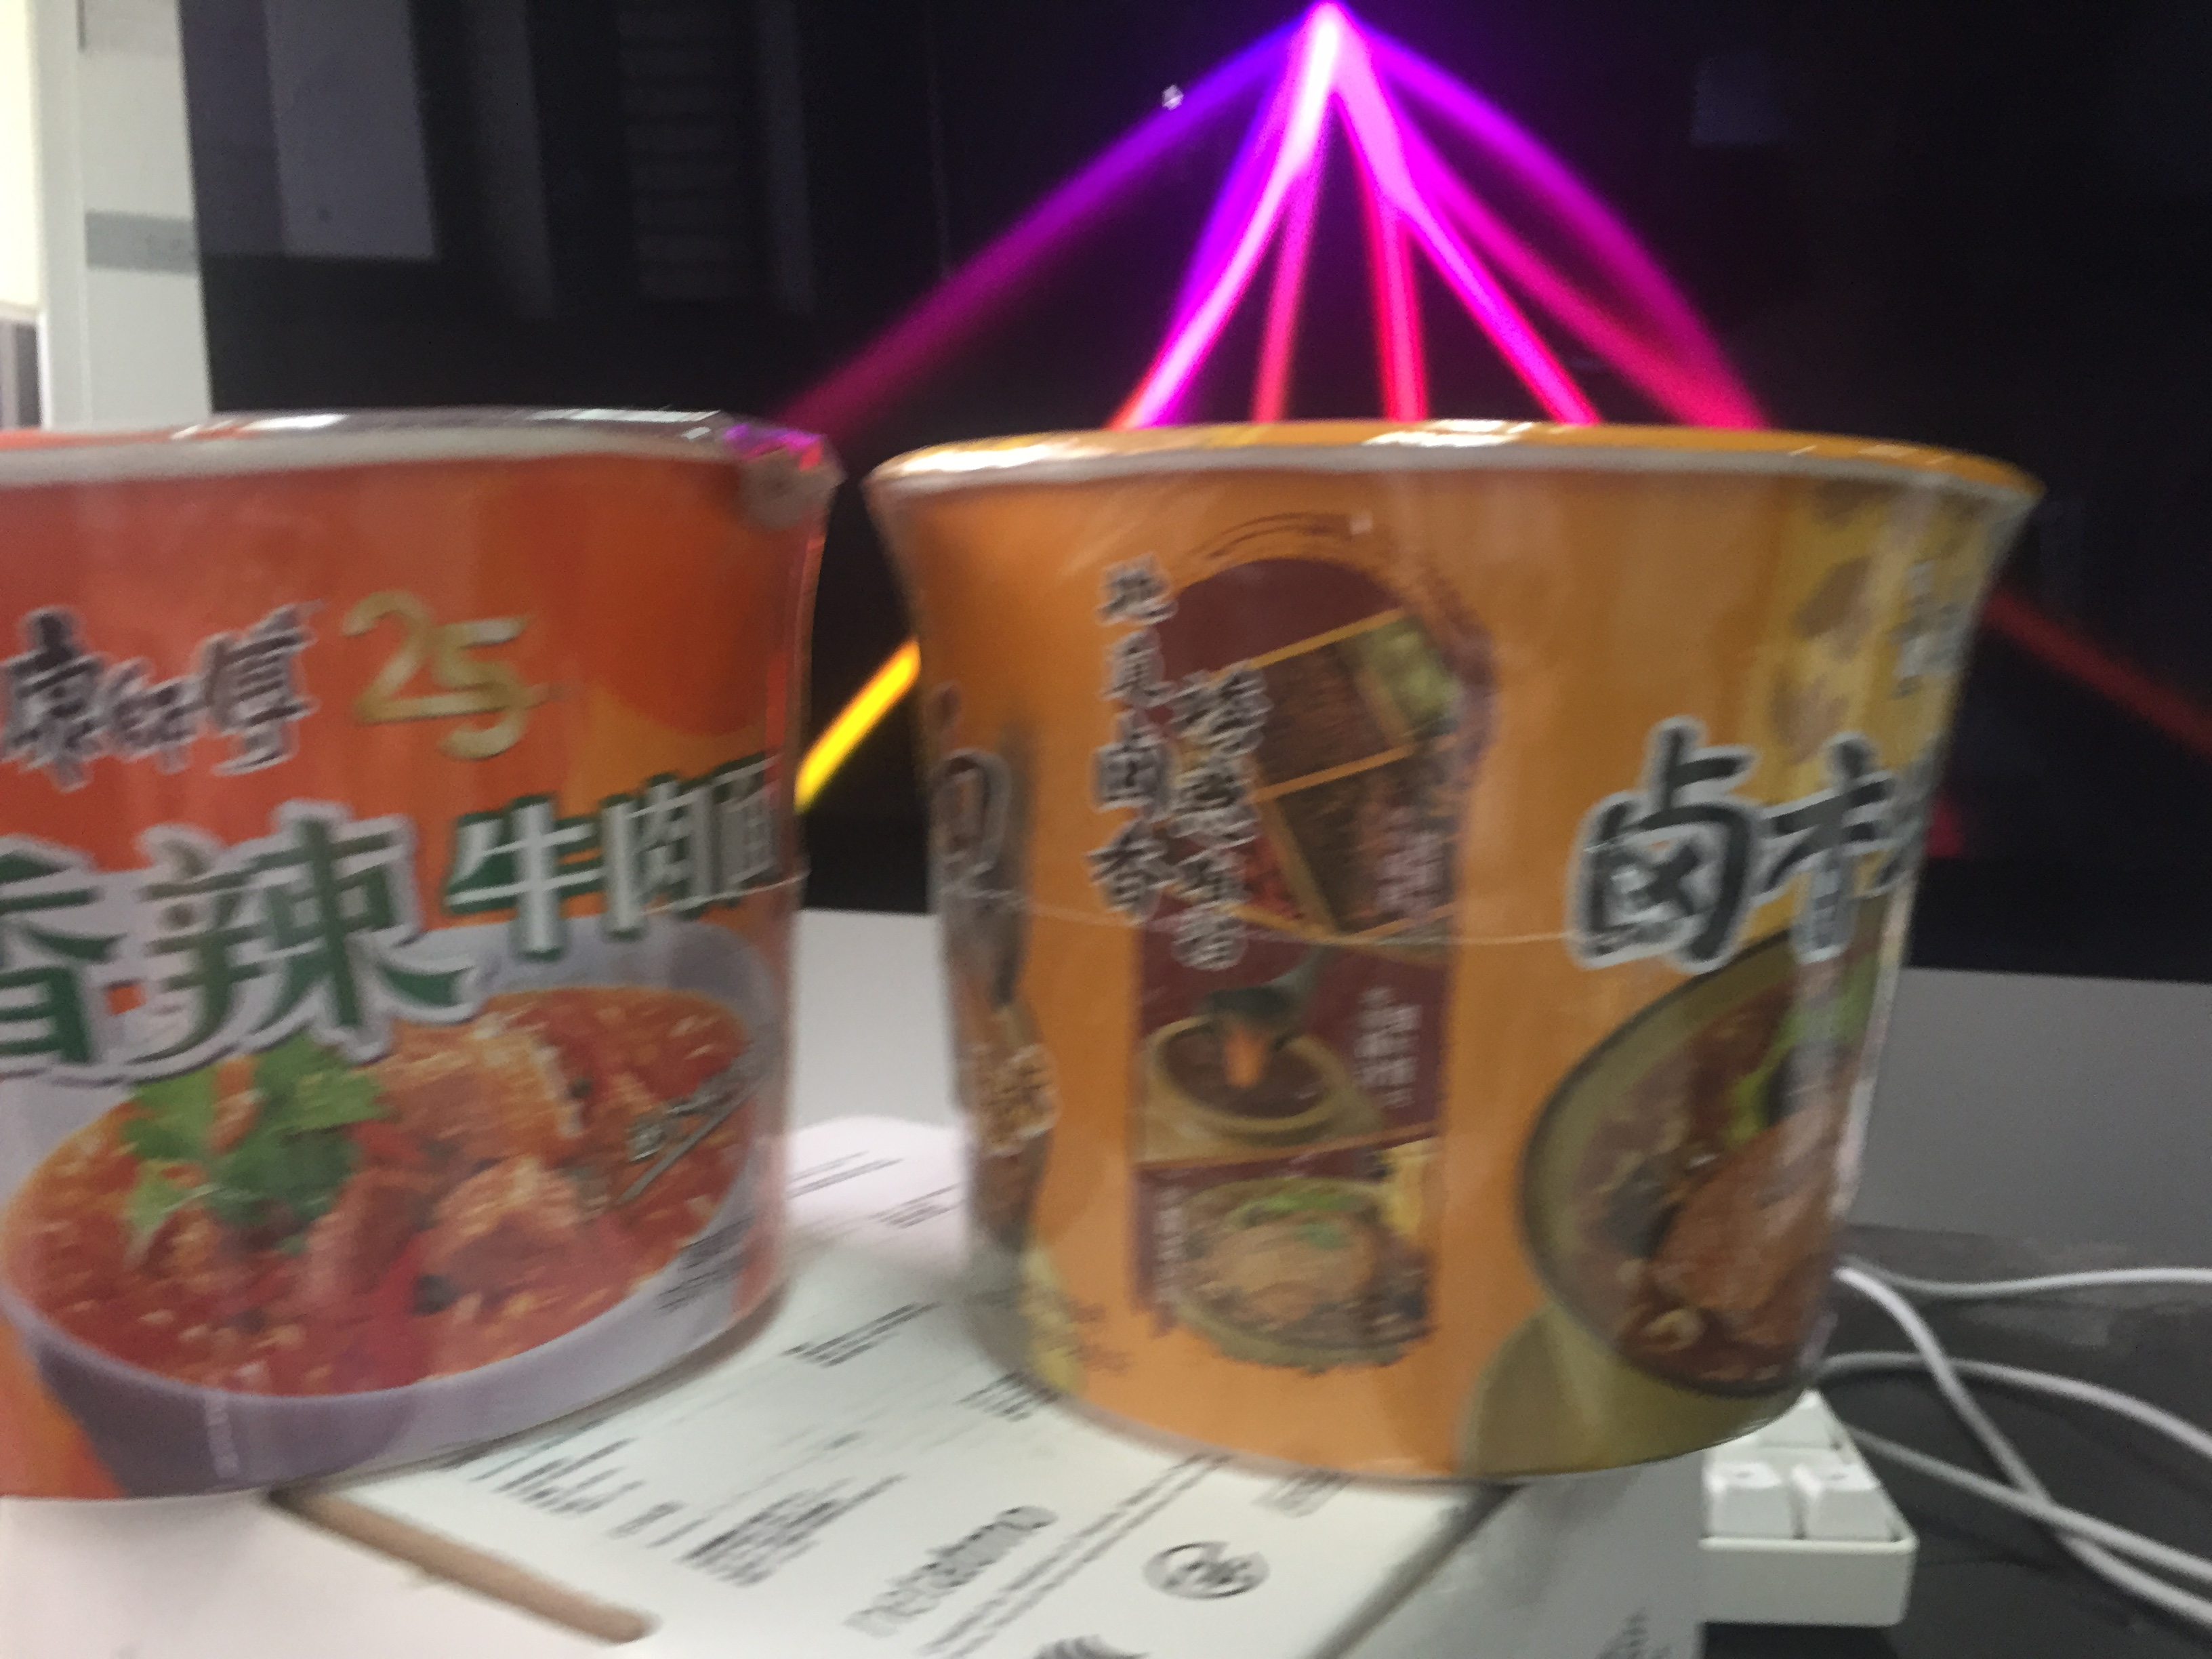luxiang: (860, 420, 2050, 1490)
xiangla: (0, 404, 855, 1507)
